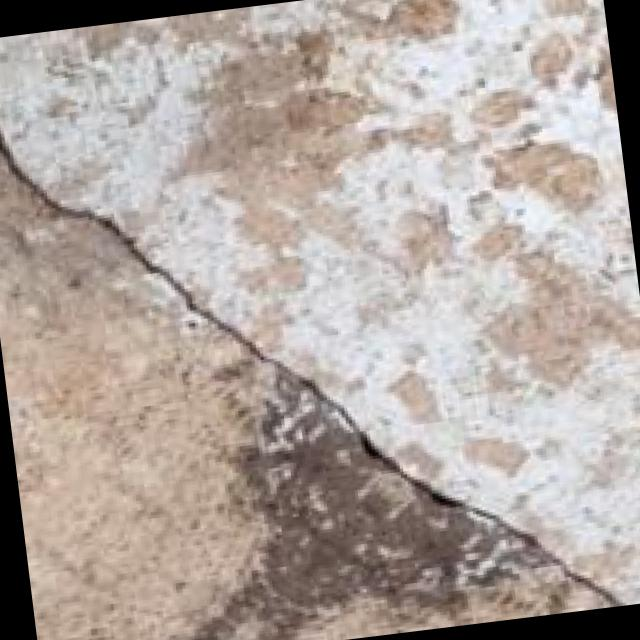crack: (0, 14, 623, 640)
